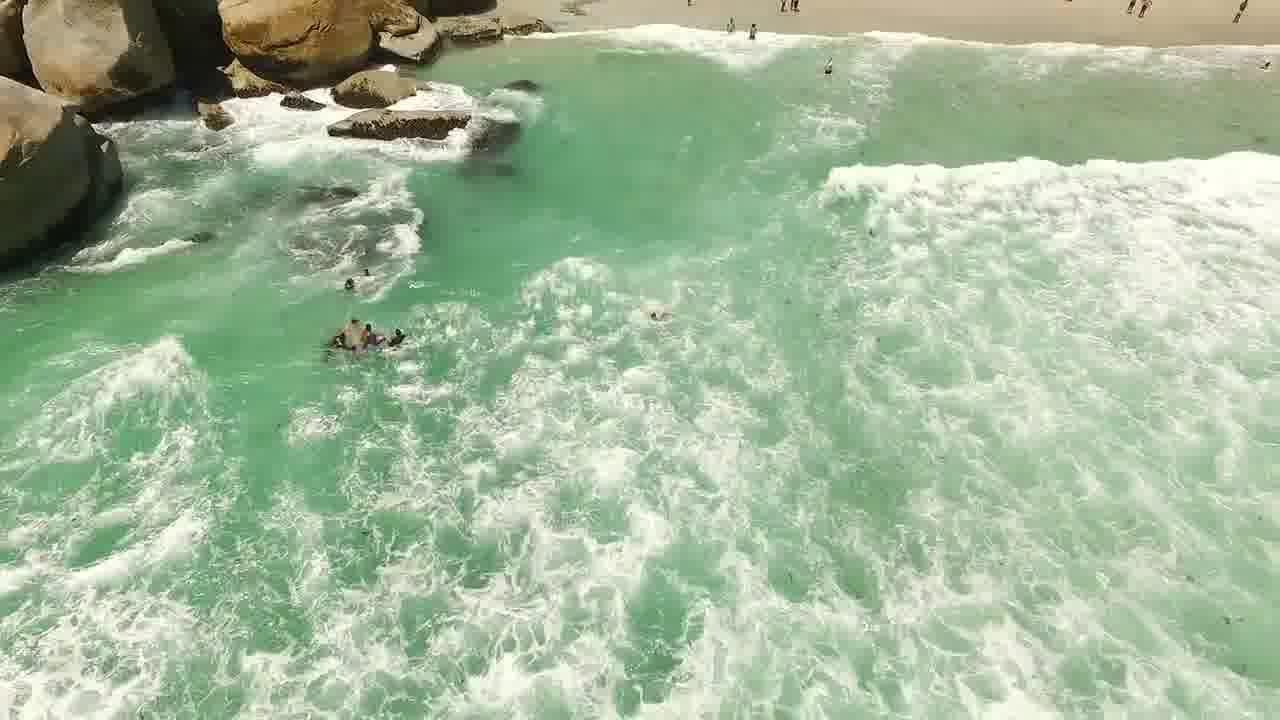human: (807, 53, 854, 86), (635, 294, 672, 334), (353, 316, 382, 353), (334, 262, 357, 299), (321, 323, 349, 352), (387, 320, 412, 351), (741, 8, 759, 47), (715, 9, 734, 44)
